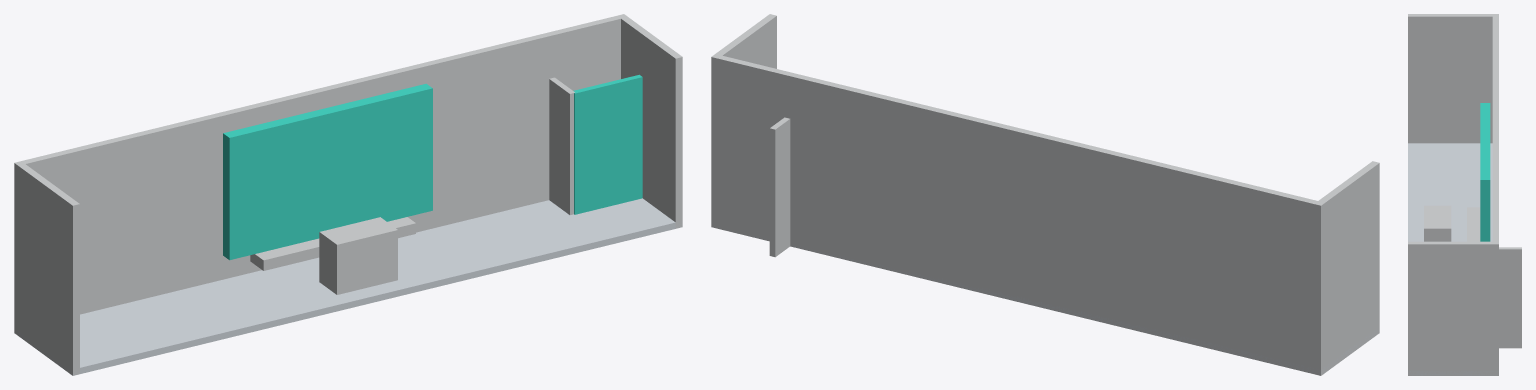
The picture shows the model from 3 angles, left to right: view 1: azimuth 30°, elevation 25°; view 2: azimuth 150°, elevation 25°; view 3: azimuth 270°, elevation 25°; orthographic projection. The views are drawn at different scales.
Parts seen in each view (by area): view 1: Exhibition Booth Concept; view 2: Exhibition Booth Concept; view 3: Exhibition Booth Concept.
Boxes of the visible parts, bbox=[...] form: Exhibition Booth Concept: bbox=[14, 14, 682, 375]; Exhibition Booth Concept: bbox=[711, 14, 1379, 375]; Exhibition Booth Concept: bbox=[1408, 14, 1521, 375].
Size of the model in its own units: 12 by 3.2 by 2.5.
